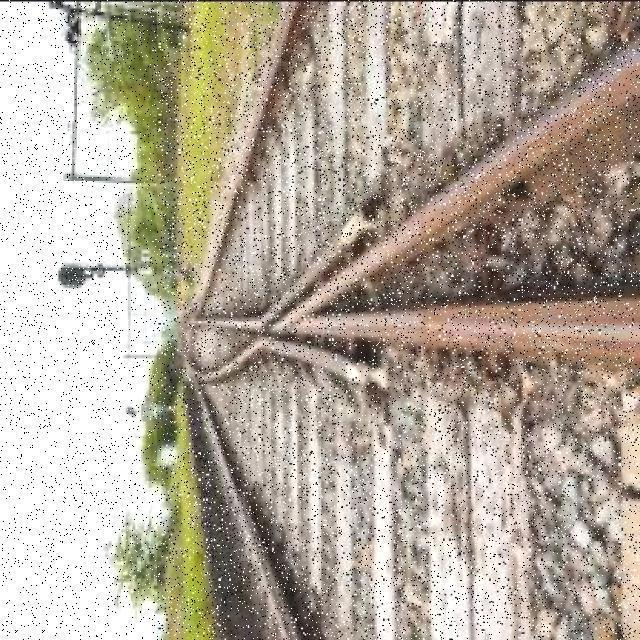rail: (160, 6, 639, 639)
